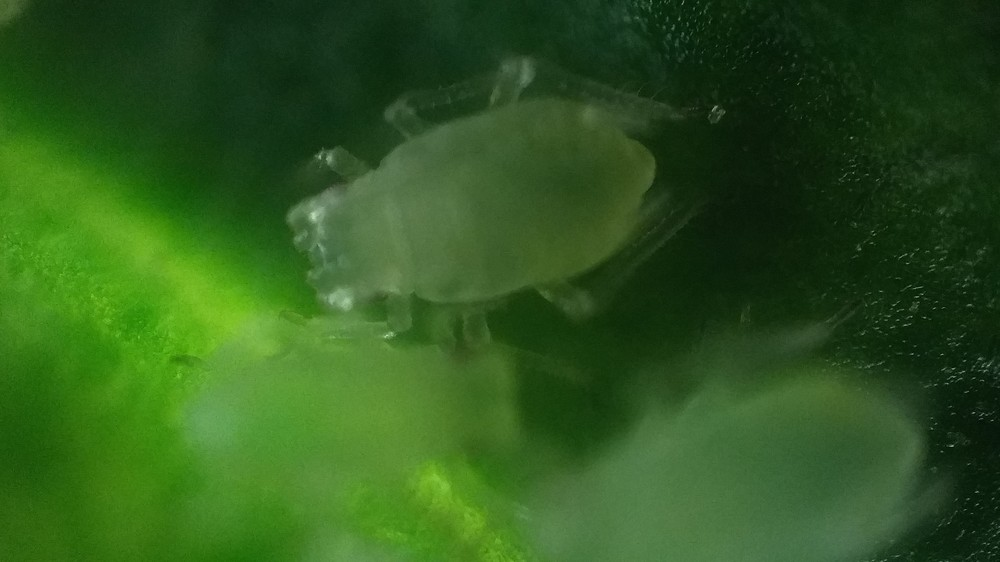Pulgon: (262, 42, 730, 337)
